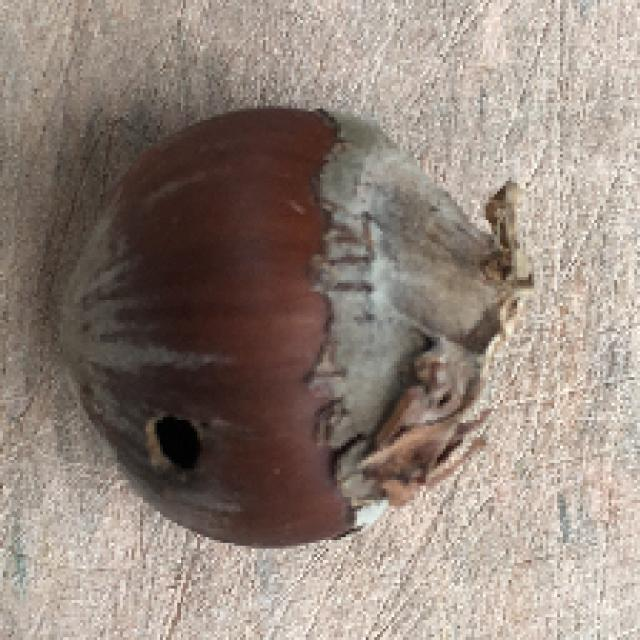damagedHazelnut: (55, 100, 517, 558)
